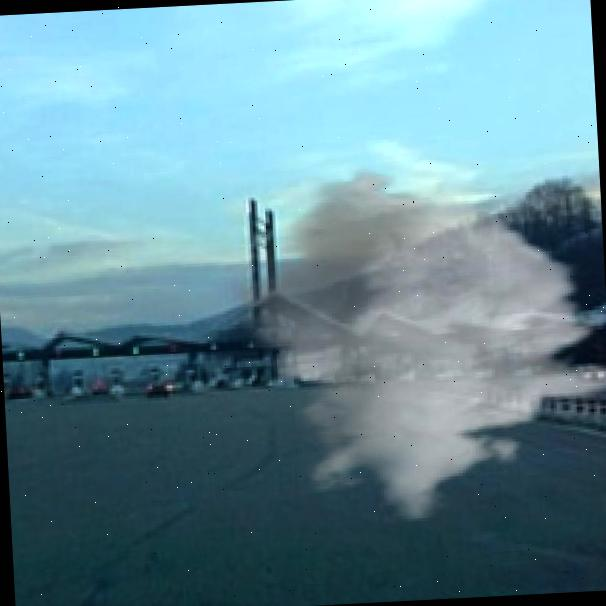smoke: (218, 157, 606, 534)
